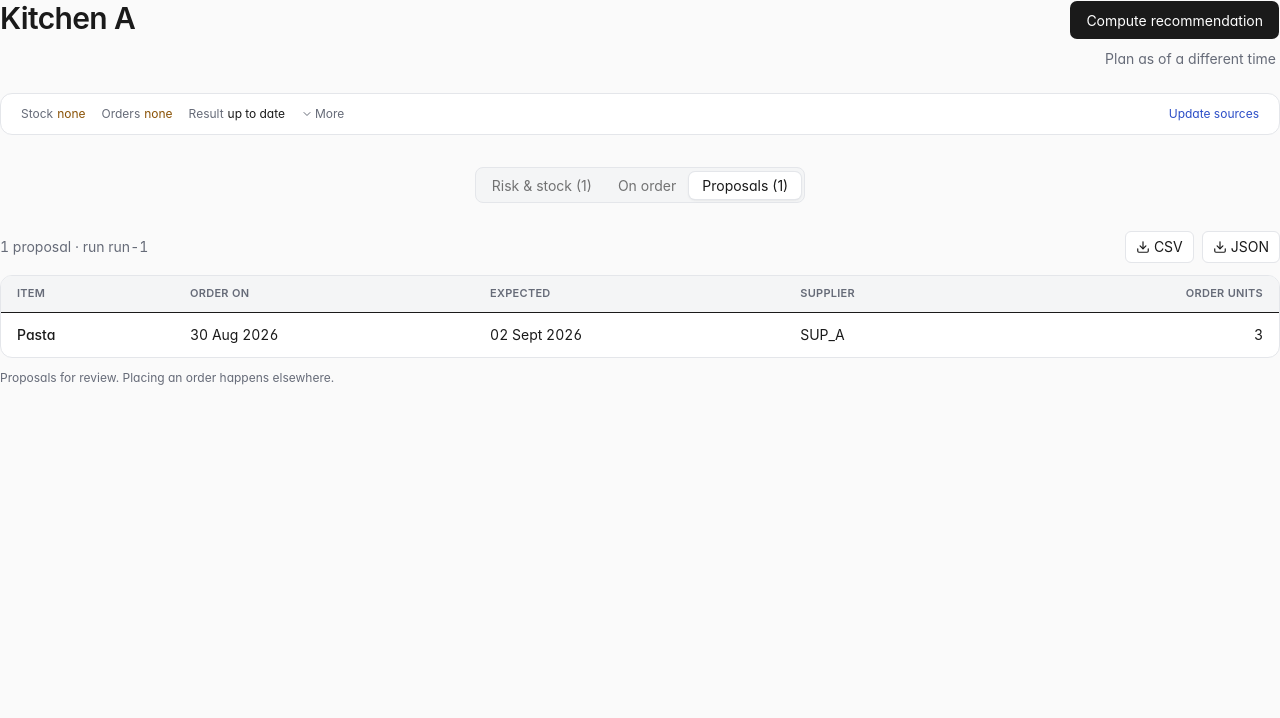
Test: shelf-life evidence in the drawer › says plainly when no safe order exists rather than inventing one
This screenshot has width=1280, height=718.
Note: A button, not a row click: the derivation must be keyboard reachable.
Click the button "Pasta" at (36, 334), box [13,320,59,348]
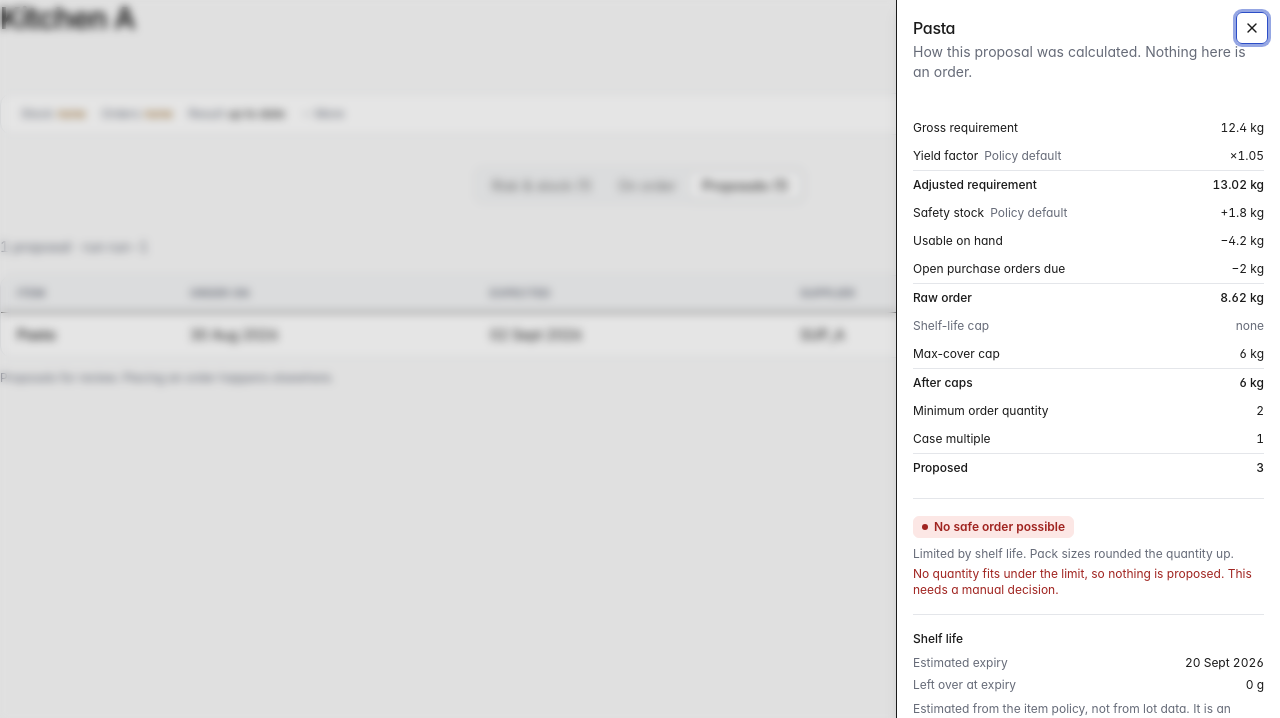
Expected: the text "No safe order possible" is shown, [913,516,1074,538]
Expected: the text "needs a manual decision" is shown, [913,566,1252,597]
